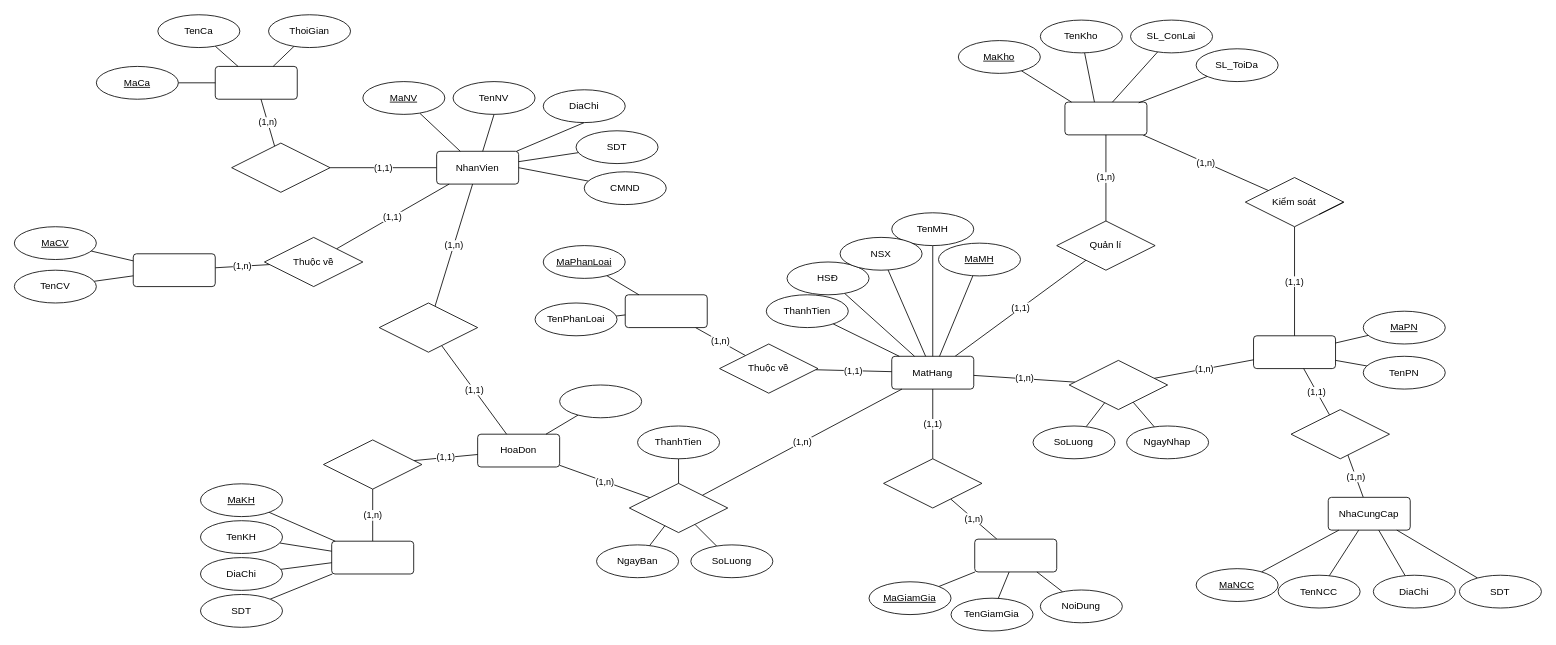
Image size: 1556x645. Some labels were removed from this diagram. The shapes that lost their labels are listed below. From the top down, each one's centre as x and y in pixels, then its label:
pixel 255 82: CaLamViec
pixel 1105 118: KhoHang
pixel 280 167: Làm việc
pixel 173 270: ChucVu
pixel 428 327: Bán
pixel 665 311: LoaiMatHang
pixel 1294 352: PhieuNhapHang
pixel 600 401: MaHD
pixel 1118 385: CTPN
pixel 1339 434: CungCap
pixel 372 464: Thanh Toán
pixel 932 483: Co
pixel 678 508: CTHD
pixel 372 557: KhachHang
pixel 1015 555: PhieuGiamGia
